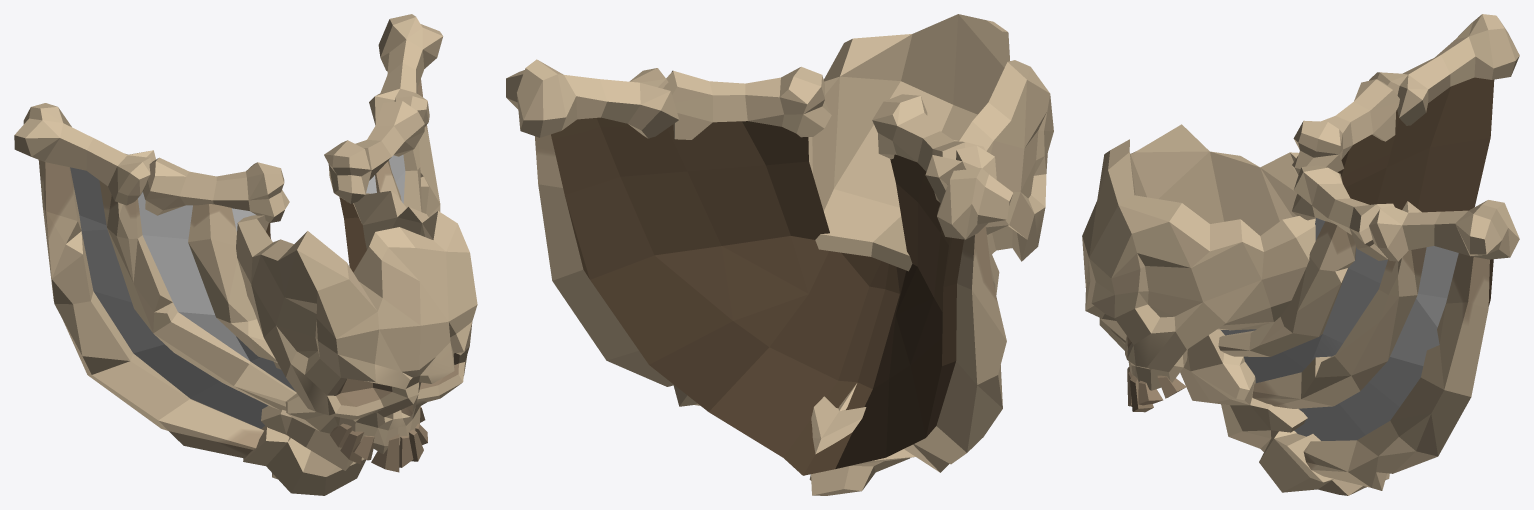
File: SM_Veh_Ship_S_Figurehead_04.fbx
The picture shows the model from 3 angles, left to right: view 1: azimuth 30°, elevation 25°; view 2: azimuth 150°, elevation 25°; view 3: azimuth 270°, elevation 25°; orthographic projection. The views are drawn at different scales.
Parts seen in each view (by area): view 1: SM_Veh_Ship_S_Figurehead_04; view 2: SM_Veh_Ship_S_Figurehead_04; view 3: SM_Veh_Ship_S_Figurehead_04.
Boxes of the visible parts, x1,y1,x2,y2 form: SM_Veh_Ship_S_Figurehead_04: (14, 14, 477, 495); SM_Veh_Ship_S_Figurehead_04: (506, 14, 1053, 495); SM_Veh_Ship_S_Figurehead_04: (1082, 14, 1519, 495).
Size of the model in its own units: 374 by 308 by 321.
